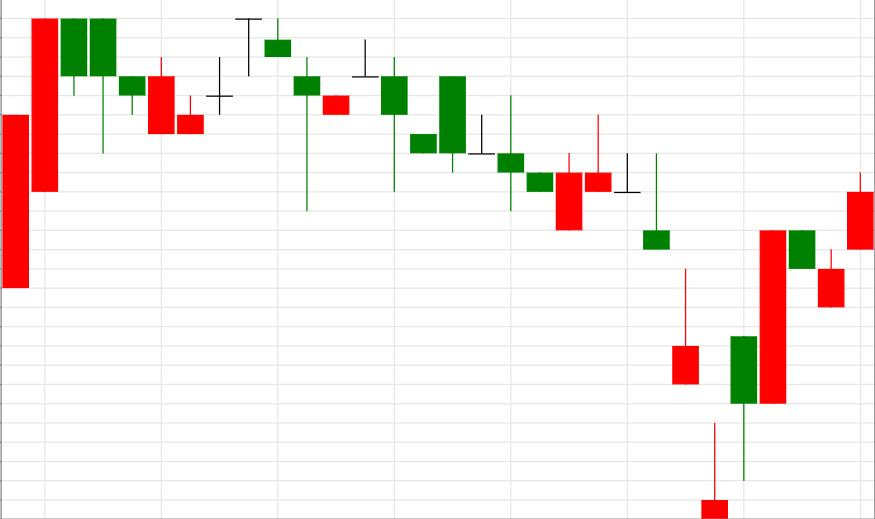inverse_hammer_rise: (352, 39, 698, 385)
